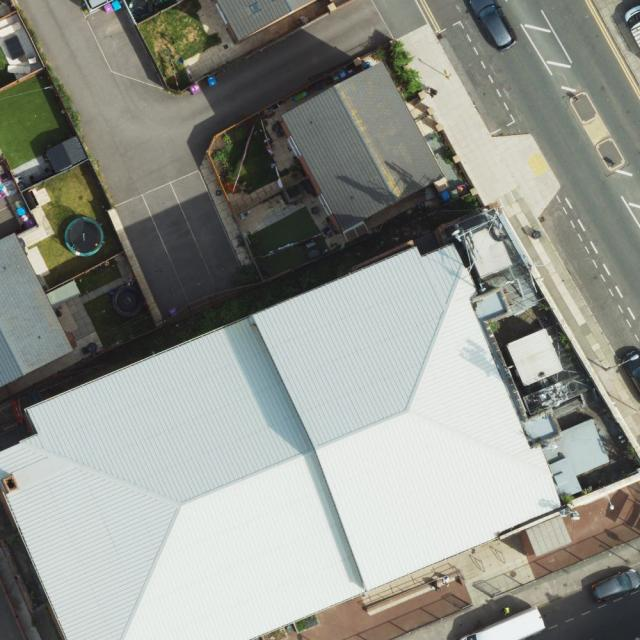roof: (0, 236, 559, 640), (284, 58, 443, 235), (0, 229, 77, 387), (217, 0, 324, 41)
skylight: (248, 0, 263, 16)
